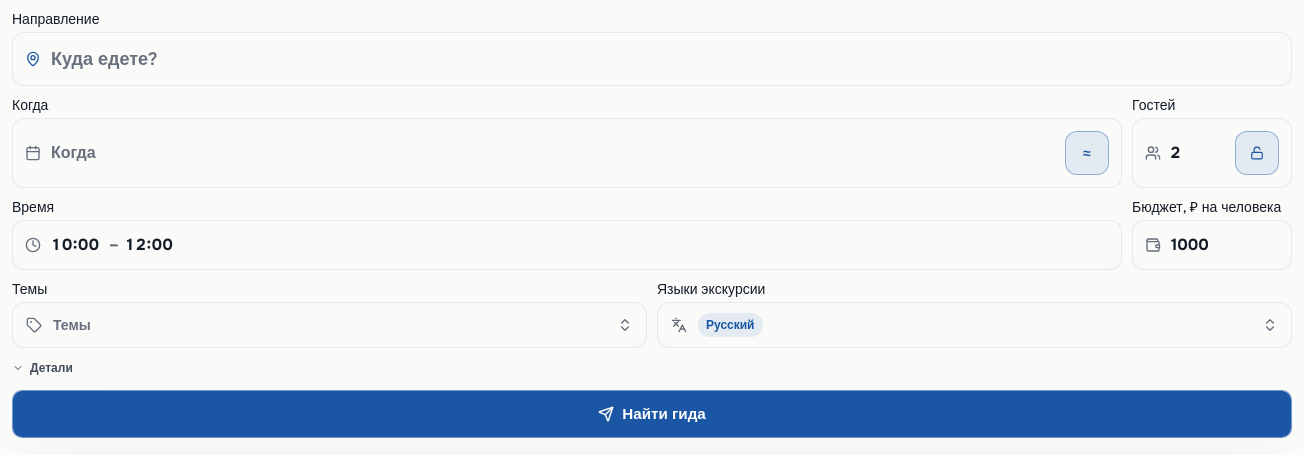
HomepageRequestFormClassic destination typeahead › loads the full suggestion vocabulary on first focus
The width and height of the screenshot is (1304, 455).
Type "Кас" into the dropdown labelled "Направление" at (665, 59), box [51,45,1279,73]
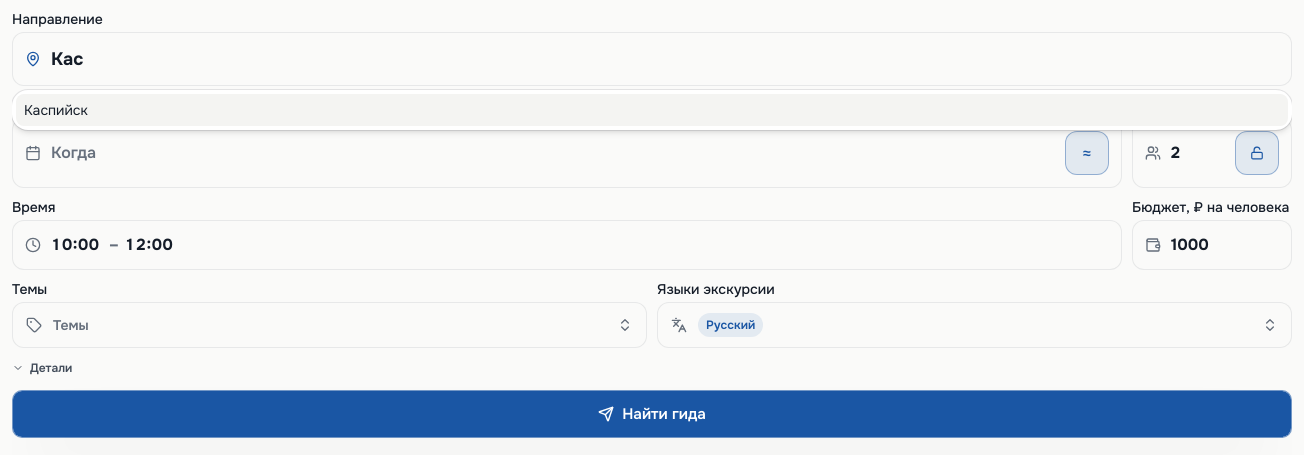
Check: the option "Каспийск" is shown, box [16,94,1288,126]
